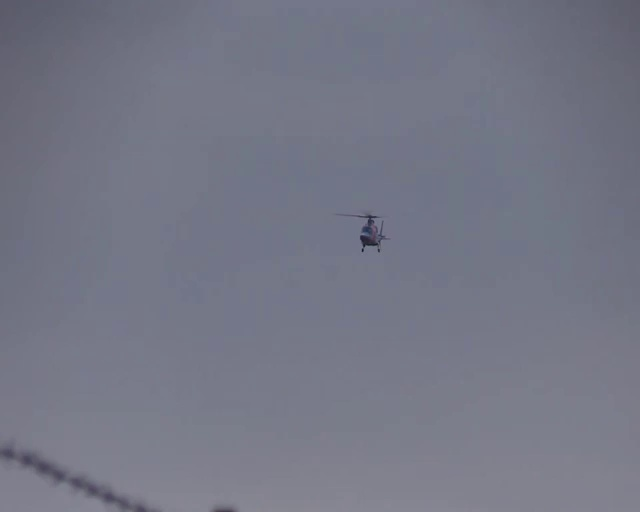HELICOPTER: (333, 211, 390, 253)
